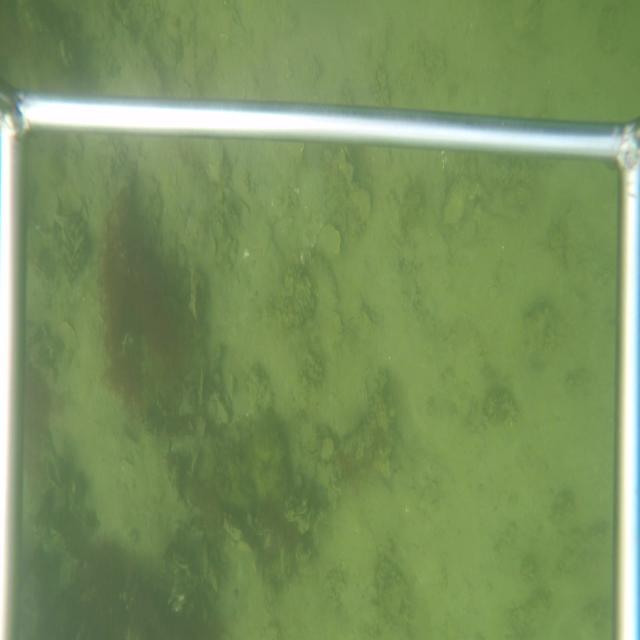Oyster-Closed: (216, 399, 230, 424)
Oyster-Indeterminate: (191, 282, 200, 327)
